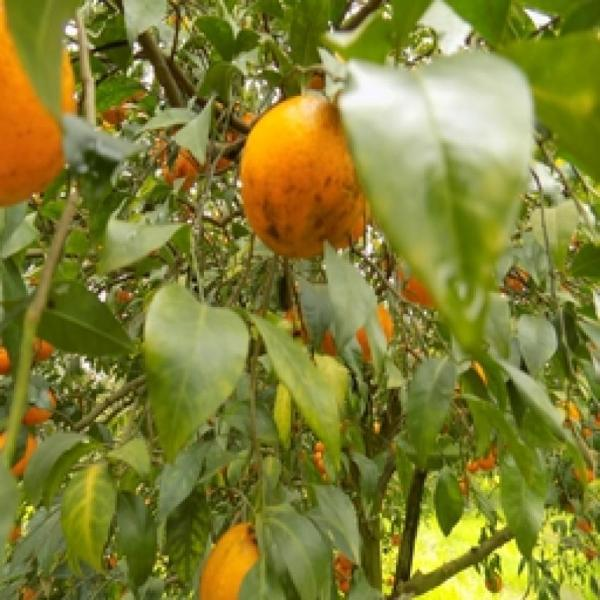Sana: (240, 85, 384, 264), (0, 0, 84, 210), (195, 515, 311, 599), (393, 248, 473, 322), (334, 290, 404, 371)
